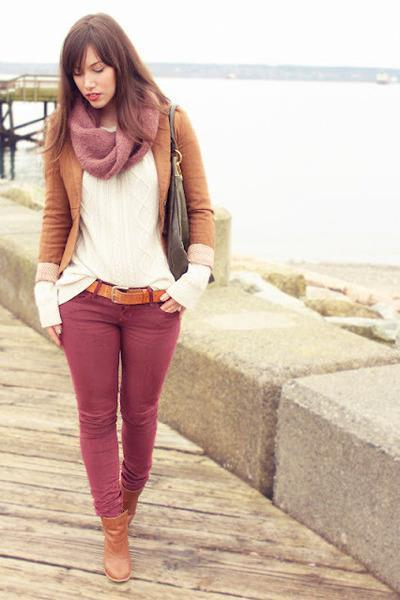bag: (155, 193, 203, 280)
jacket: (19, 103, 213, 279)
pants: (53, 279, 179, 530)
shirt: (31, 156, 210, 323)
shoe: (84, 509, 148, 584)
